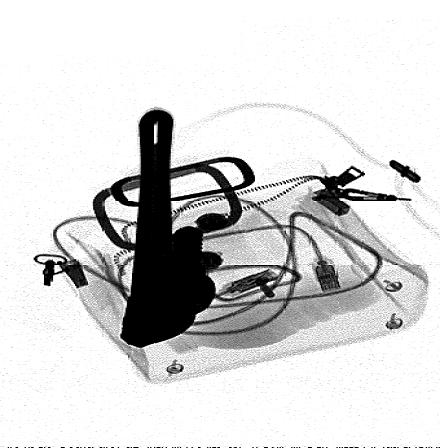Wrench: (120, 109, 204, 348)
